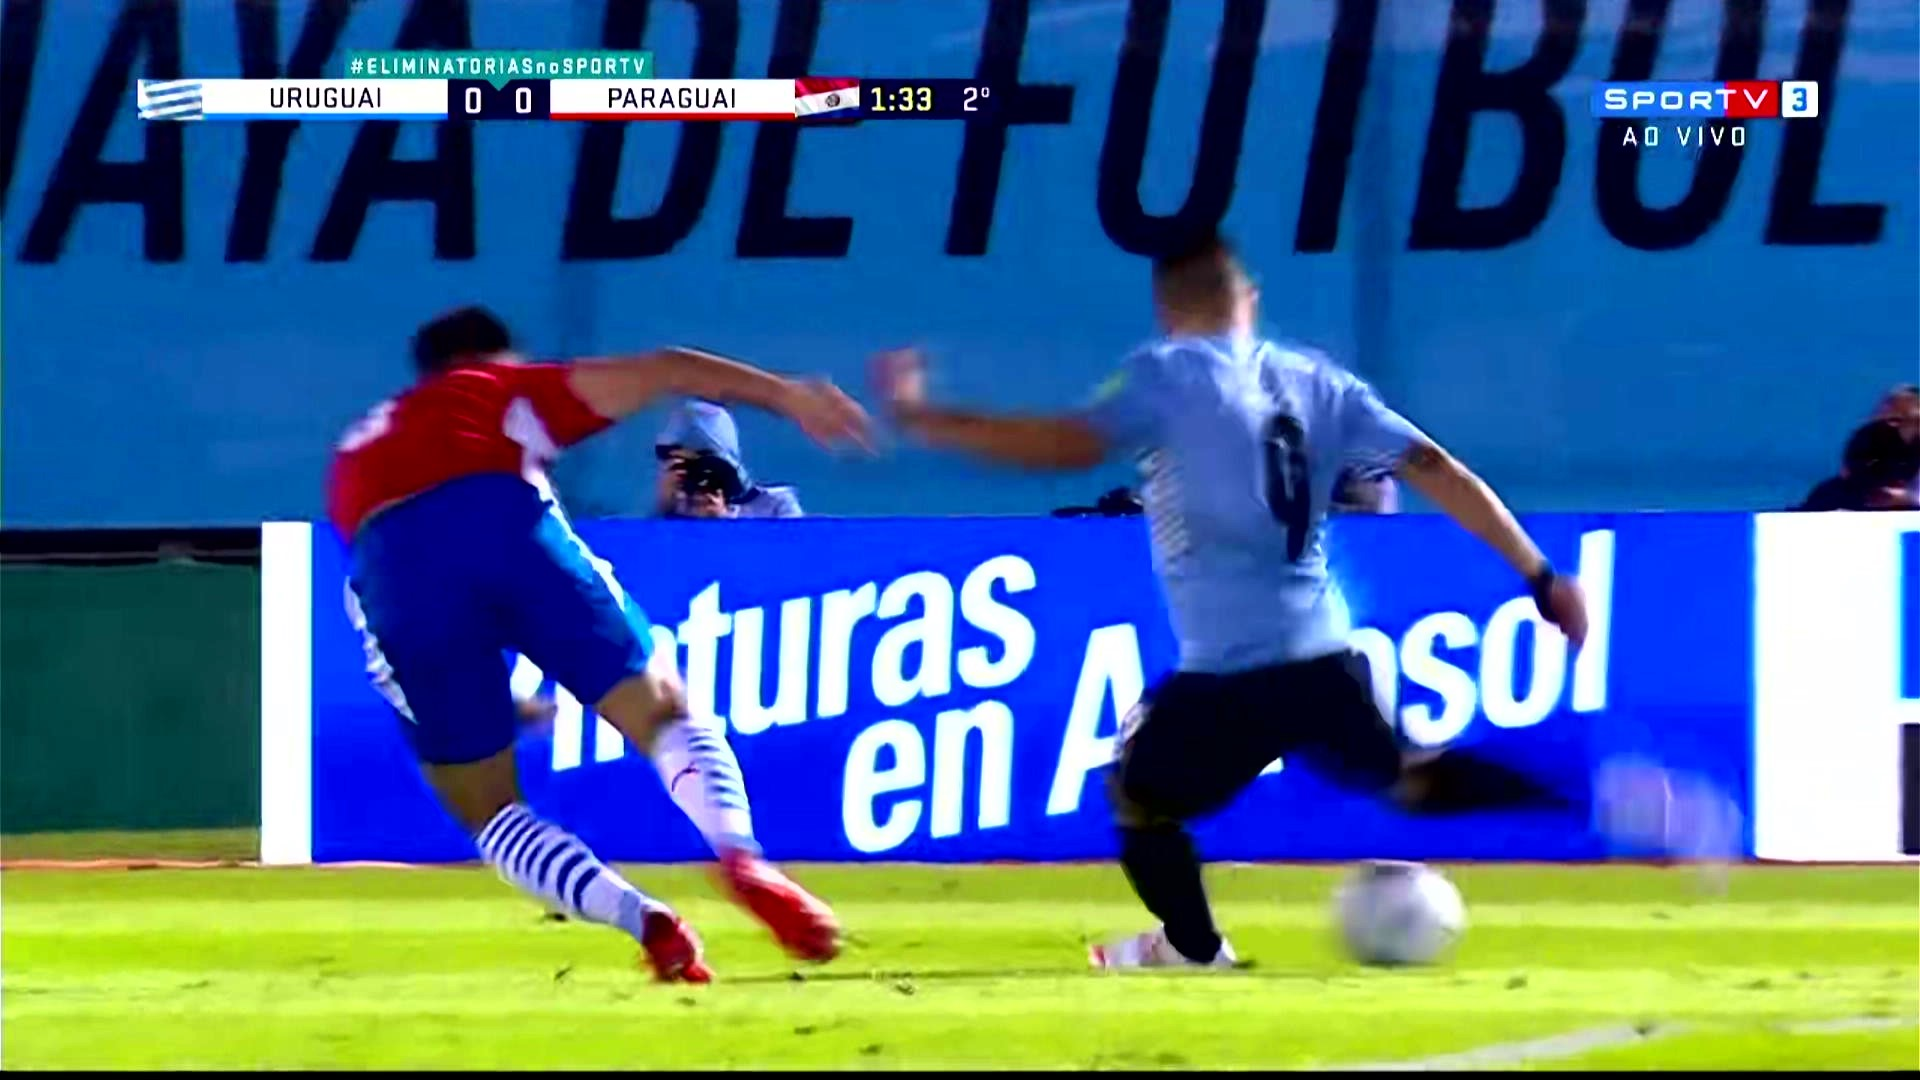SporTV3: (1592, 84, 1818, 116)
